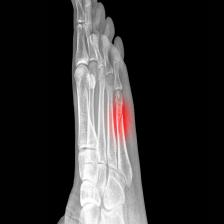stress-fracture: (69, 0, 144, 224)
